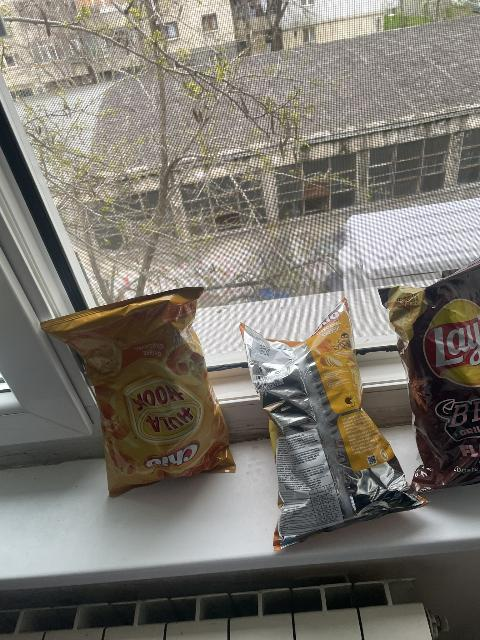Chio Cascaval 125g: (238, 298, 428, 555)
Chio Hula Hoops Cheese 70g: (38, 293, 239, 493)
Lays Beef Grilled Ribs 125g: (376, 259, 480, 493)
